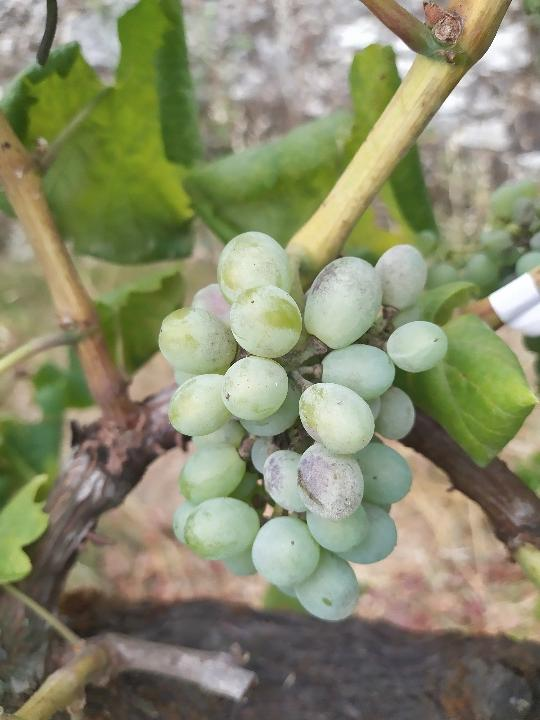grape: (153, 226, 451, 626)
